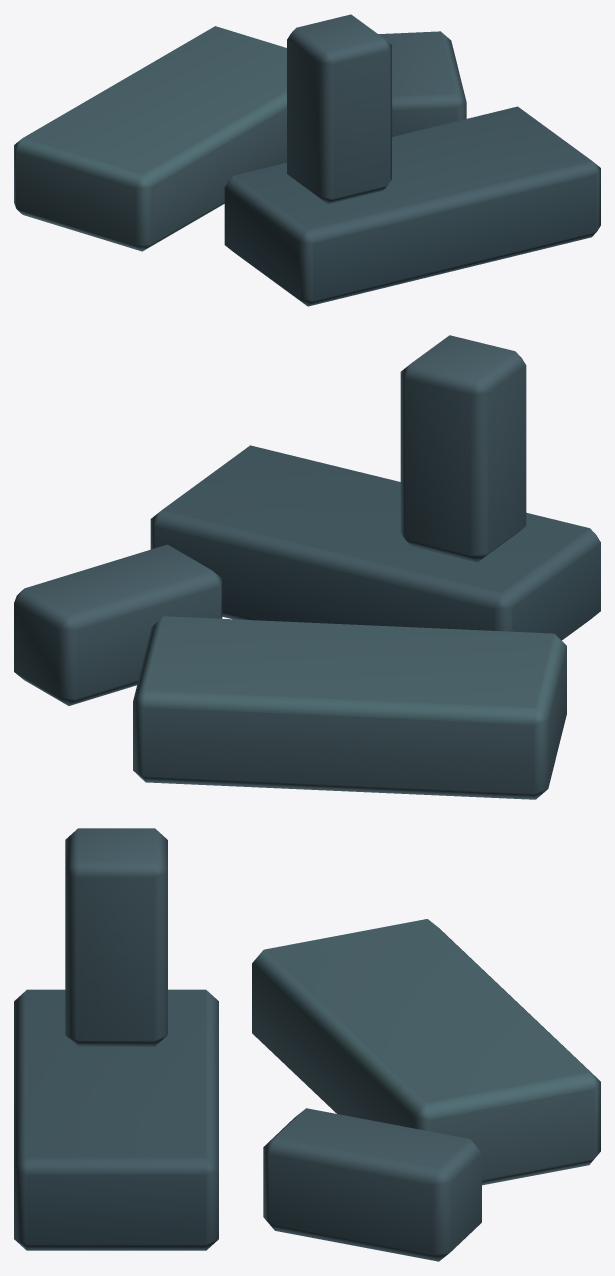
The model's file is fence_01_broken_hue_2.fbx.
3 renders of one model, top to bottom at view 1: azimuth 30°, elevation 25°; view 2: azimuth 150°, elevation 25°; view 3: azimuth 270°, elevation 25°, orthographic. The views are drawn at different scales.
Parts seen in each view (by area): view 1: fence_01_broken_hue_2; view 2: fence_01_broken_hue_2; view 3: fence_01_broken_hue_2.
Boxes of the visible parts, box(x1,y1,x2,y2) form: fence_01_broken_hue_2: box(14, 14, 600, 306); fence_01_broken_hue_2: box(14, 335, 600, 799); fence_01_broken_hue_2: box(14, 828, 600, 1261).
Bounding box in the file's own units: 150 × 75 × 143.
